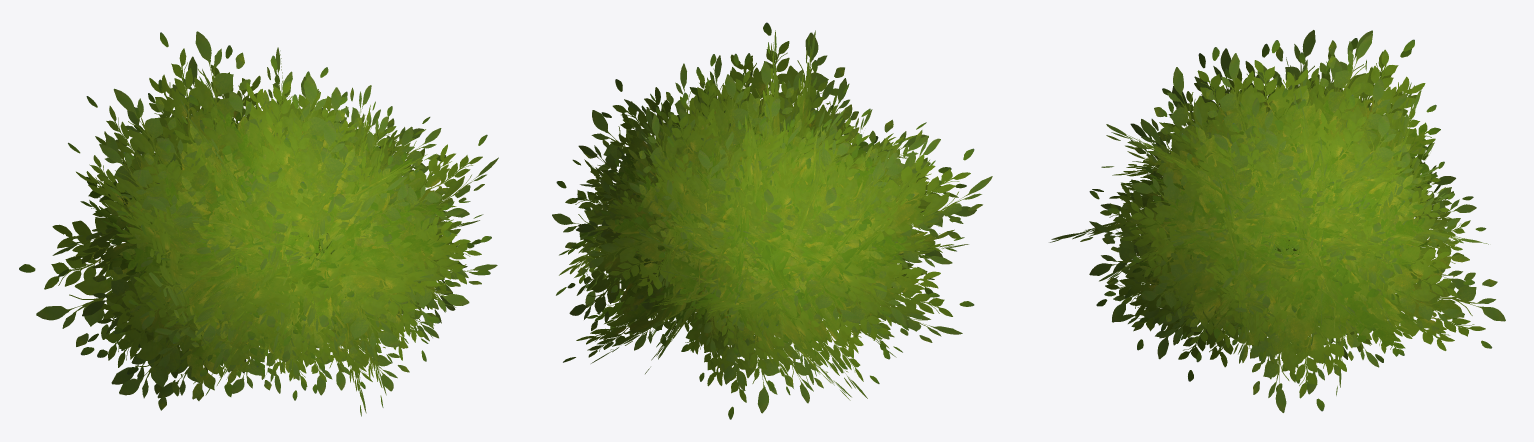
The model's file is bush.FBX.
3 views of the same model, side by side, from view 1: azimuth 30°, elevation 25°; view 2: azimuth 150°, elevation 25°; view 3: azimuth 270°, elevation 25° (orthographic). The views are drawn at different scales.
Visible parts, largest first — view 1: leaves023; view 2: leaves023; view 3: leaves023.
Boxes of the visible parts, <box> form: leaves023: <box>19,31,498,416</box>; leaves023: <box>552,22,992,419</box>; leaves023: <box>1049,30,1505,412</box>.
Size of the model in its own units: 41.88 by 36.05 by 44.6.
